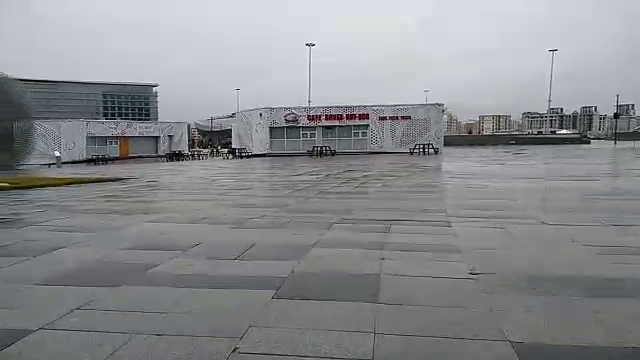kebab: (268, 107, 436, 157)
